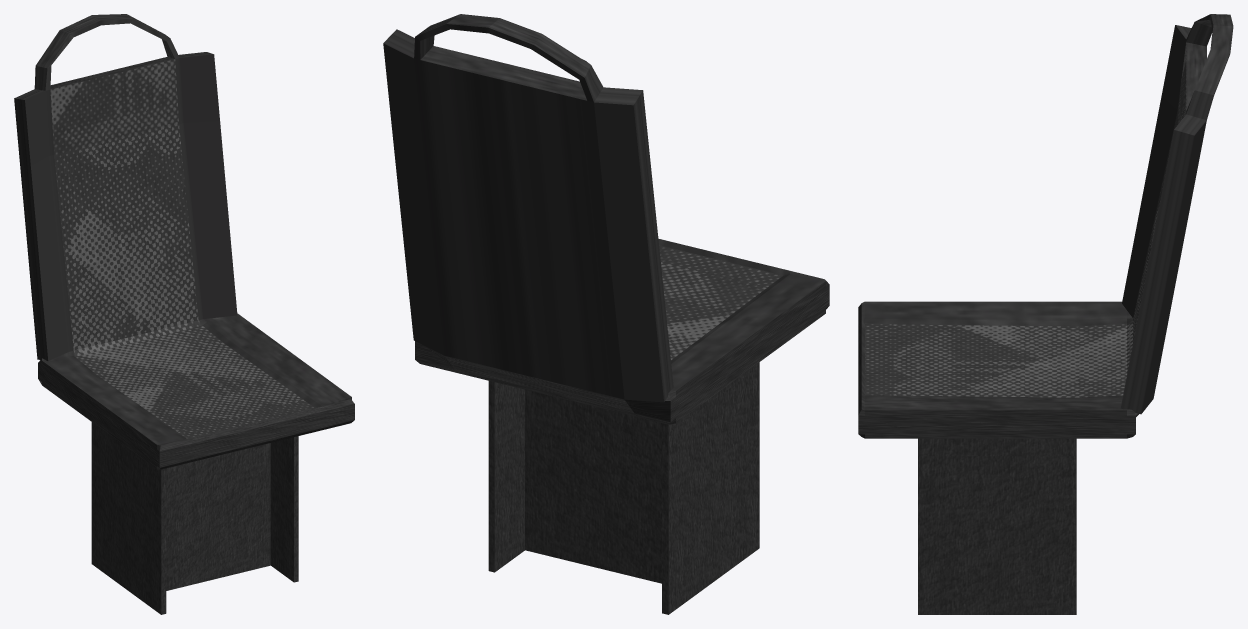
The model's file is chair.fbx.
3 views of the same model, side by side, from view 1: azimuth 30°, elevation 25°; view 2: azimuth 150°, elevation 25°; view 3: azimuth 270°, elevation 25° (orthographic). The views are drawn at different scales.
Visible parts, largest first — view 1: Cube; view 2: Cube; view 3: Cube.
Boxes of the visible parts, bbox=[...] form: Cube: bbox=[14, 14, 354, 614]; Cube: bbox=[383, 14, 829, 614]; Cube: bbox=[858, 14, 1233, 614].
Bounding box in the file's own units: 185 × 438 × 270.
